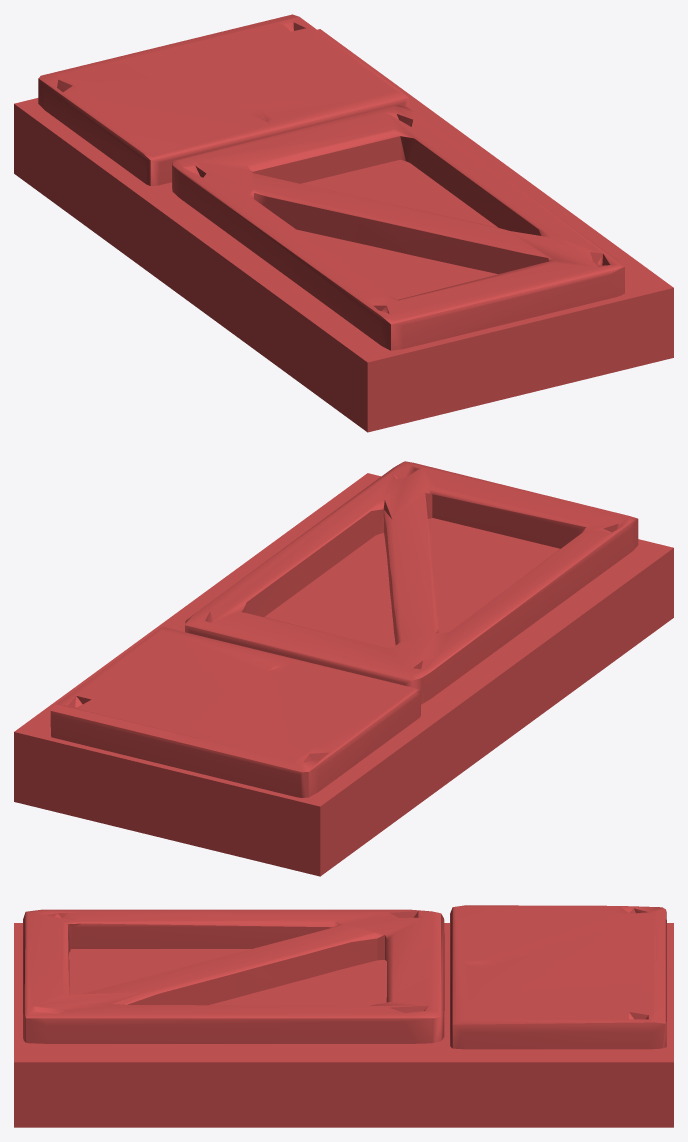
Rendered from Final_ComplexWall_2x1_03.FBX.
The picture shows the model from 3 angles, top to bottom: view 1: azimuth 30°, elevation 25°; view 2: azimuth 150°, elevation 25°; view 3: azimuth 270°, elevation 25°; orthographic projection. The views are drawn at different scales.
Parts seen in each view (by area): view 1: Final_ComplexWall_2x1_03; view 2: Final_ComplexWall_2x1_03; view 3: Final_ComplexWall_2x1_03.
Part boxes in pixels (<box>): Final_ComplexWall_2x1_03: <box>14,14,673,432</box>; Final_ComplexWall_2x1_03: <box>14,461,673,876</box>; Final_ComplexWall_2x1_03: <box>14,905,673,1127</box>.
Size of the model in its own units: 100 by 200 by 30.79.
